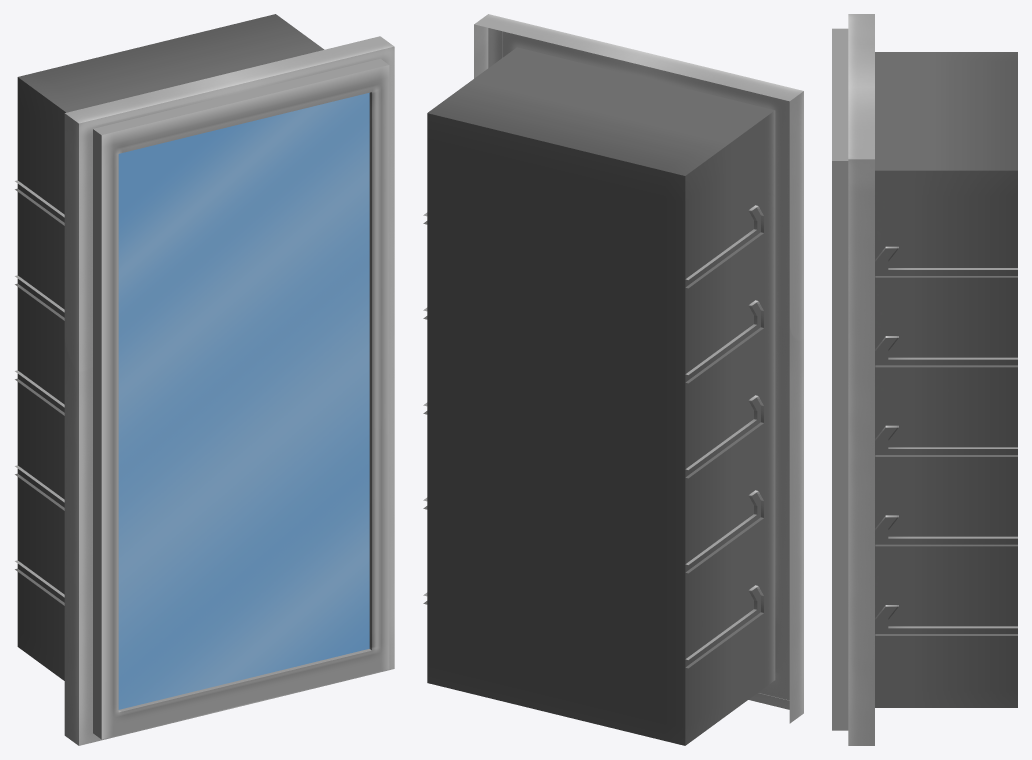
The model's file is beverage_refrigerator.fbx.
3 views of the same model, side by side, from view 1: azimuth 30°, elevation 25°; view 2: azimuth 150°, elevation 25°; view 3: azimuth 270°, elevation 25° (orthographic). The views are drawn at different scales.
Parts seen in each view (by area): view 1: Object104, Box023; view 2: Box023; view 3: Box023.
Part boxes in pixels (bbox=[...]): Object104: bbox=[118, 92, 369, 709]; Box023: bbox=[15, 14, 394, 745]; Box023: bbox=[423, 14, 803, 745]; Box023: bbox=[832, 14, 1017, 745].
Size of the model in its own units: 111 by 210 by 60.26.
